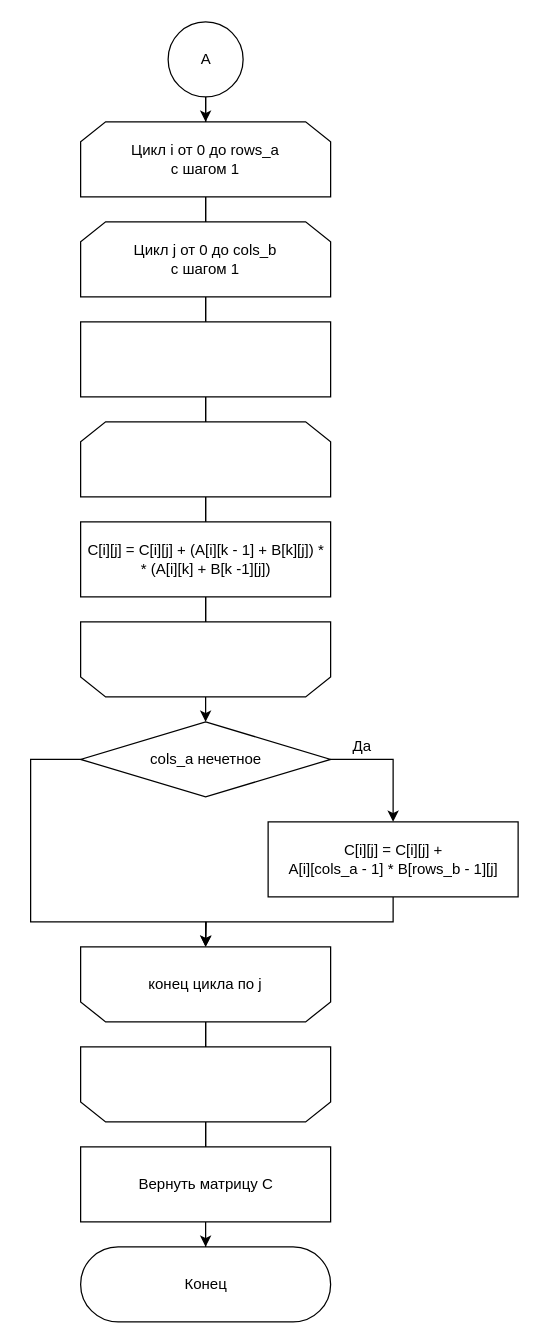
Image size: 540x1344. Some labels were removed from this diagram. Each missing label, with the box of its shape:
C[i][j] = - (mul_row[i] + mul_col[j]): (79, 321, 331, 397)
конец цикла по i: (79, 1046, 331, 1122)
конец цикла по k: (79, 621, 331, 697)
Цикл k от 1 до cols_a/2 с шагом 1: (79, 421, 331, 497)
